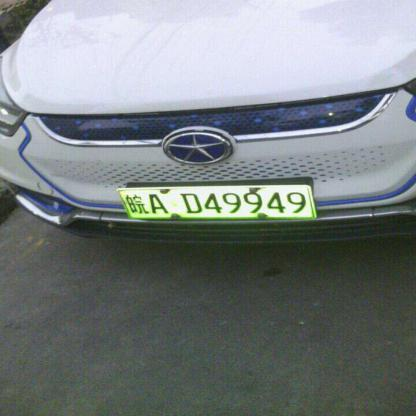lp: (118, 184, 314, 217)
